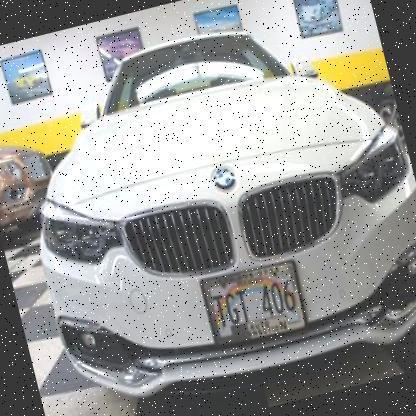License-Plate: (197, 252, 316, 358)
